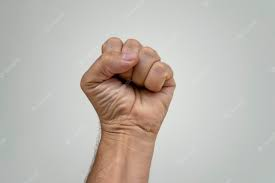closed: (79, 36, 177, 136)
